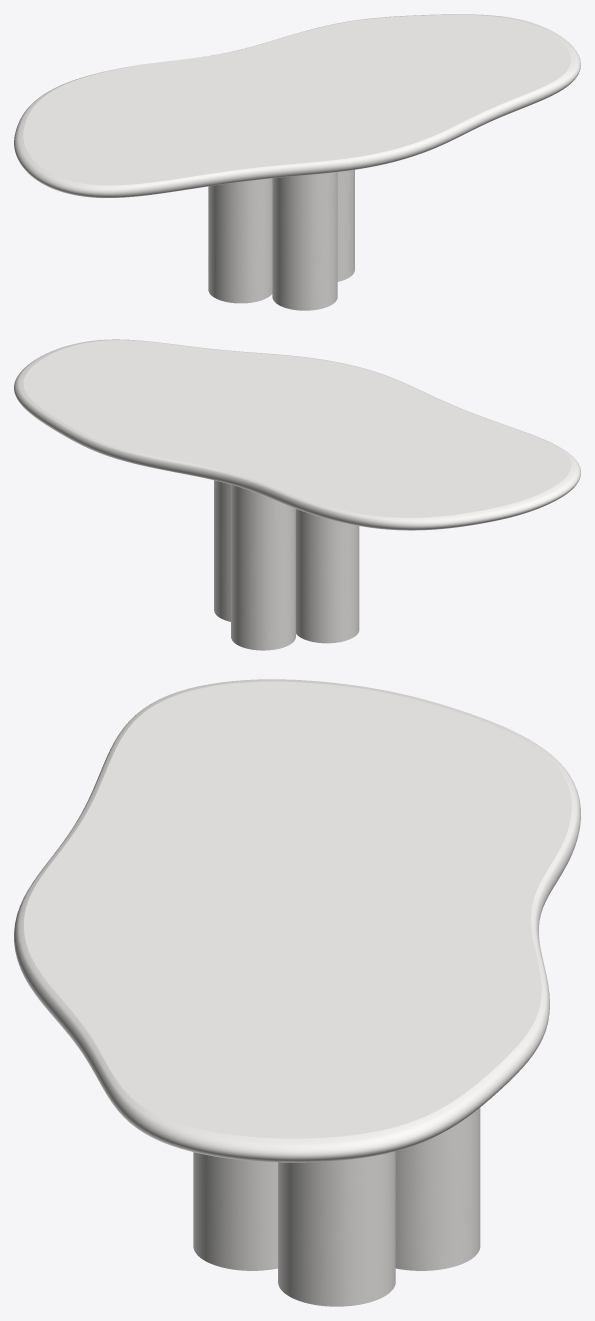
File: purewhite_toplast_round_secondtable.glb
3 renders of one model, top to bottom at view 1: azimuth 30°, elevation 25°; view 2: azimuth 150°, elevation 25°; view 3: azimuth 270°, elevation 25°, orthographic. The views are drawn at different scales.
Parts seen in each view (by area): view 1: round_toplast, secondtable; view 2: round_toplast, secondtable; view 3: round_toplast, secondtable.
Boxes of the visible parts, box(x1,y1,x2,y2) form: round_toplast: box(14, 14, 580, 197); secondtable: box(208, 170, 354, 310); round_toplast: box(14, 339, 580, 530); secondtable: box(214, 480, 359, 650); round_toplast: box(14, 679, 580, 1162); secondtable: box(193, 1107, 480, 1306).
Bounding box in the file's own units: 7.5 × 2.5 × 3.8.
1 material, 1 textured.
